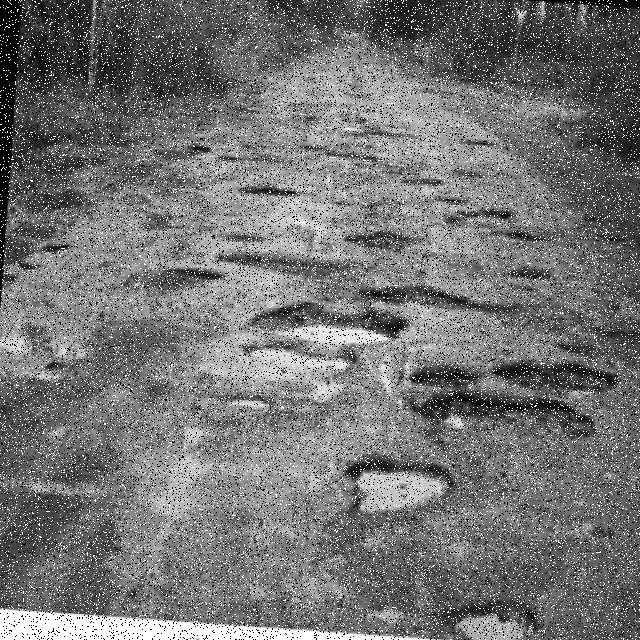pothole: (409, 392, 599, 441), (345, 457, 456, 516), (256, 303, 411, 345), (491, 362, 623, 395), (445, 600, 539, 640), (241, 341, 358, 371), (410, 366, 482, 388)
